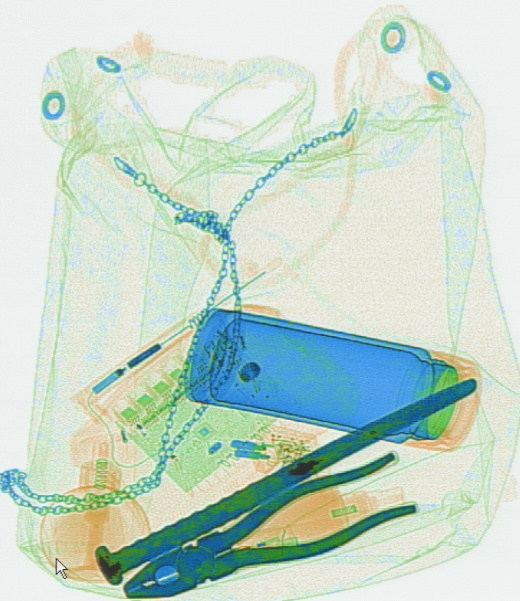lighter: (186, 524, 301, 569)
